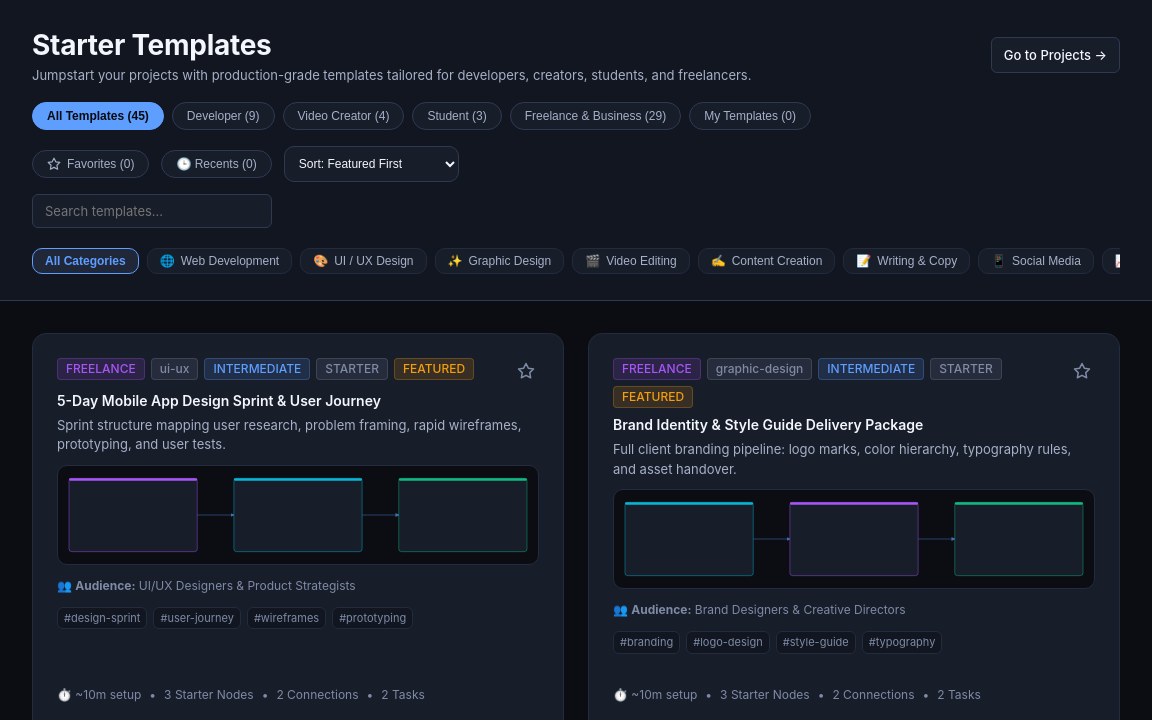
Test: Phase 3 Feature Suite › Template Gallery: Search, Filtering & Interactive Previews › filters templates and opens preview dialog with node structure
The image size is (1152, 720).
Expected: the heading "Starter Templates" is shown, [32,28,271,62]
Search template
Step 1. Type "Microservice" into the field with placeholder "Search templates..." → (152, 210), box [32,194,272,228]
(page scrolled)
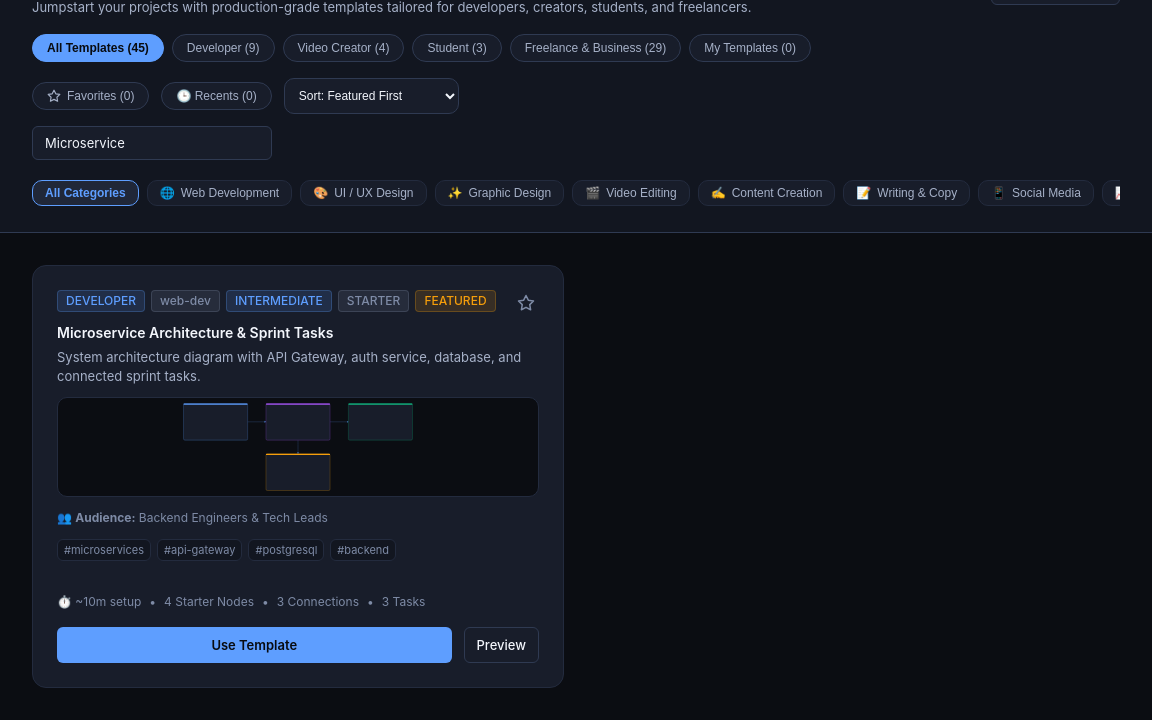
Expected: the heading "Microservice Architecture & Sprint Tasks" is shown, [57,324,333,340]
Open Preview dialog
Step 2. Click the button with aria-label "Preview Microservice Architecture & Sprint Tasks" → (501, 645), box [464,627,539,663]
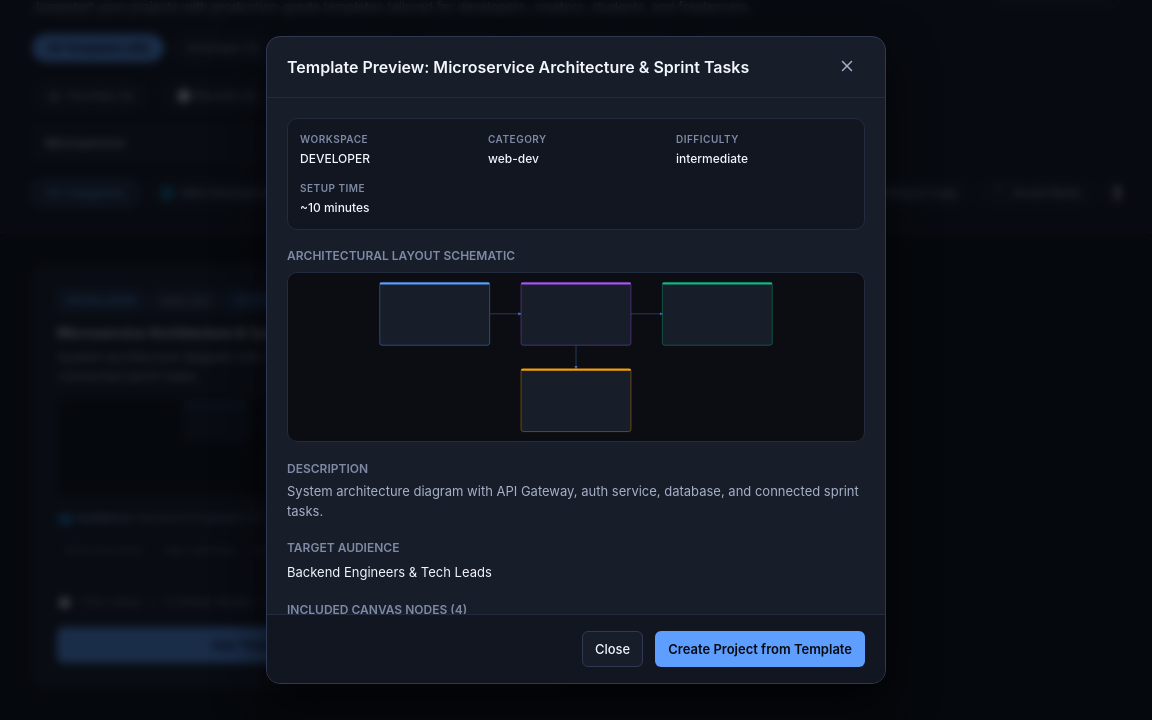
Expected: the heading "Template Preview: Microservice Architecture & Sprint Tasks" is shown, [287,55,749,79]
Close modal
Step 3. Click the button "Close" → (613, 649), box [582,631,643,667]
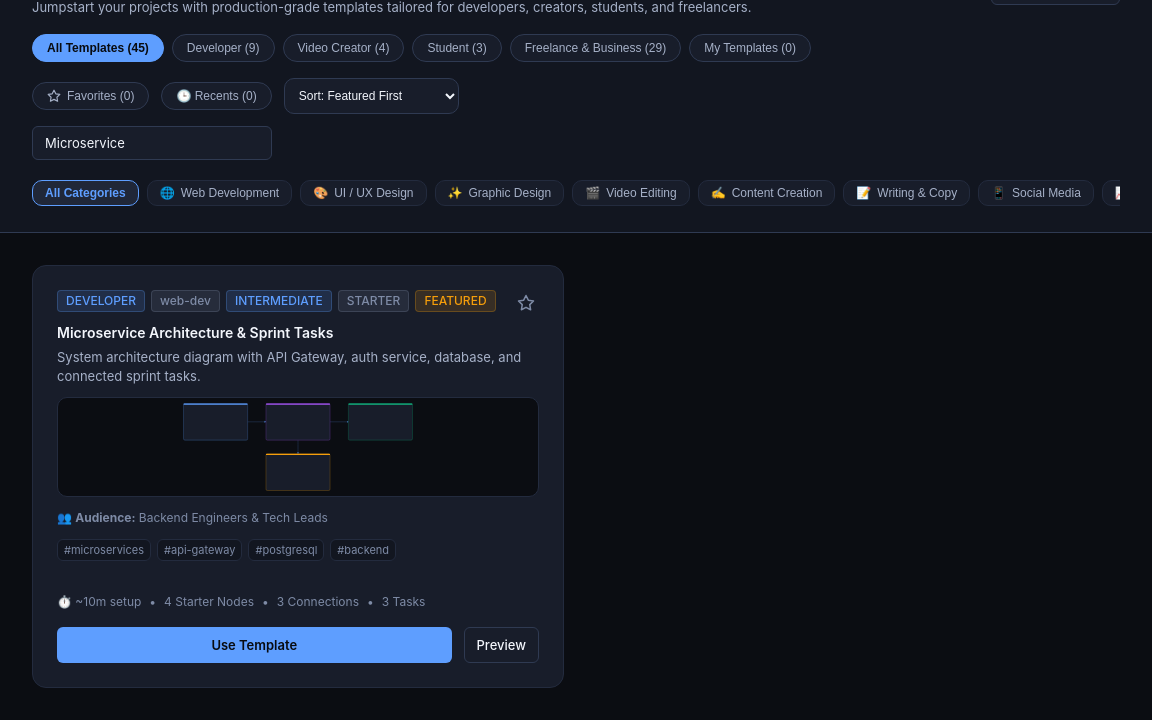
Expected: the heading "Template Preview: Microservice Architecture & Sprint Tasks" is gone
